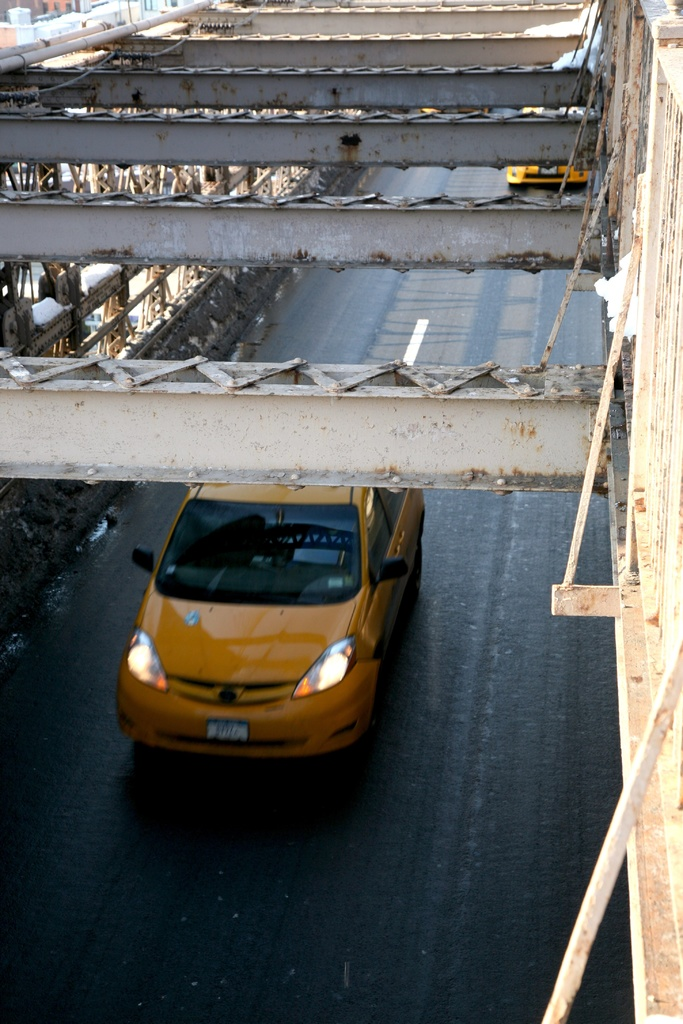Car: (115, 487, 430, 756)
